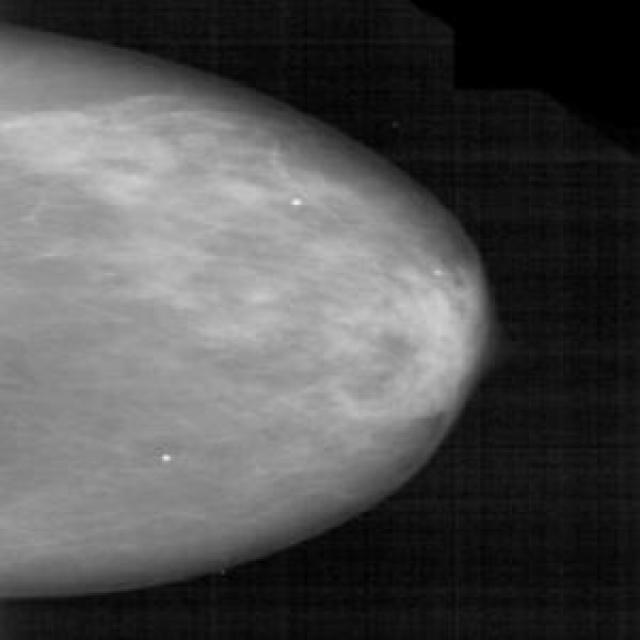tumor: (32, 96, 326, 233), (357, 232, 477, 438)
